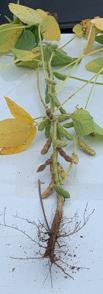soja: (55, 184, 73, 204), (78, 141, 99, 157), (56, 149, 75, 166), (53, 102, 74, 115), (35, 160, 52, 176), (54, 51, 76, 63), (51, 70, 71, 83), (42, 183, 57, 200), (57, 126, 74, 141), (36, 119, 53, 132), (58, 163, 70, 179), (41, 138, 51, 156), (44, 86, 52, 104), (45, 109, 57, 120), (45, 78, 61, 86), (48, 42, 60, 52), (56, 140, 67, 150), (43, 126, 54, 136)
